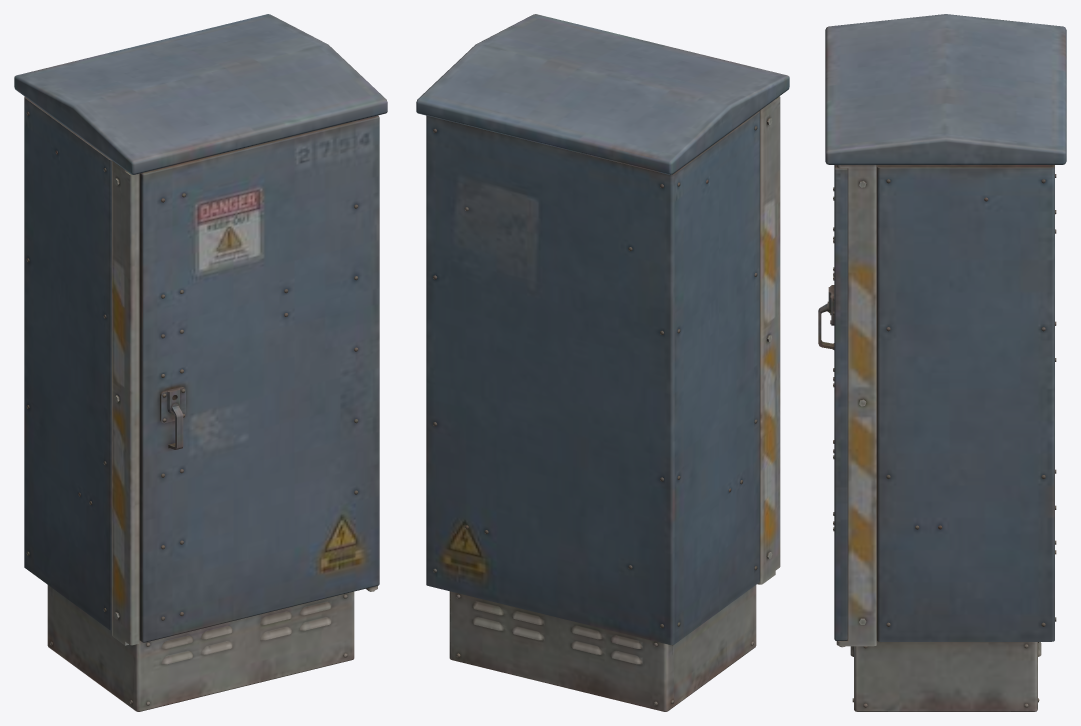
3 renders of one model, left to right at view 1: azimuth 30°, elevation 25°; view 2: azimuth 150°, elevation 25°; view 3: azimuth 270°, elevation 25°, orthographic.
Visible parts, largest first — view 1: utility_box_01_box; view 2: utility_box_01_box; view 3: utility_box_01_box.
Boxes of the visible parts, <box> form: utility_box_01_box: <box>14,14,387,711</box>; utility_box_01_box: <box>416,14,789,711</box>; utility_box_01_box: <box>818,14,1066,711</box>.
Size of the model in its own units: 0.52 by 1.12 by 0.432.
Materials: 1 (1 with a texture image).
